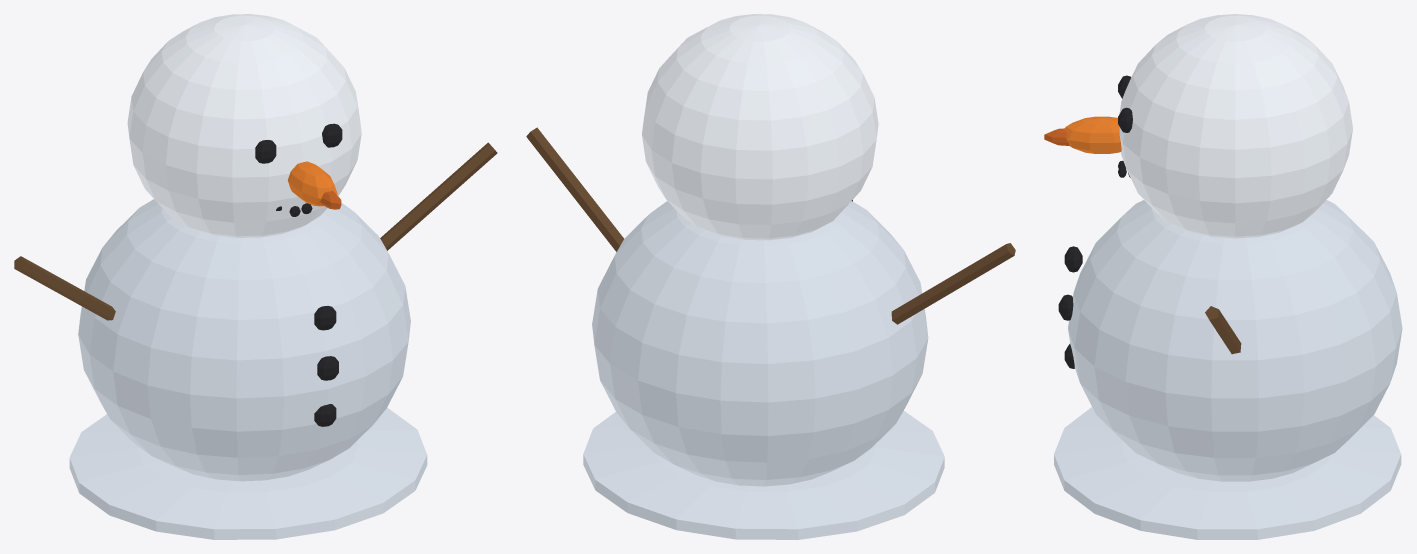
Rendered from Building_Snowman__C.glb.
3 views of the same model, side by side, from view 1: azimuth 30°, elevation 25°; view 2: azimuth 150°, elevation 25°; view 3: azimuth 270°, elevation 25° (orthographic).
Parts seen in each view (by area): view 1: Snowman__C; view 2: Snowman__C; view 3: Snowman__C.
Part boxes in pixels (bbox=[...]): Snowman__C: bbox=[14, 14, 497, 539]; Snowman__C: bbox=[526, 14, 1015, 539]; Snowman__C: bbox=[1044, 14, 1402, 539].
Bounding box in the file's own units: 1.46 × 1.31 × 0.9416.
Materials: 1 (1 with a texture image).
